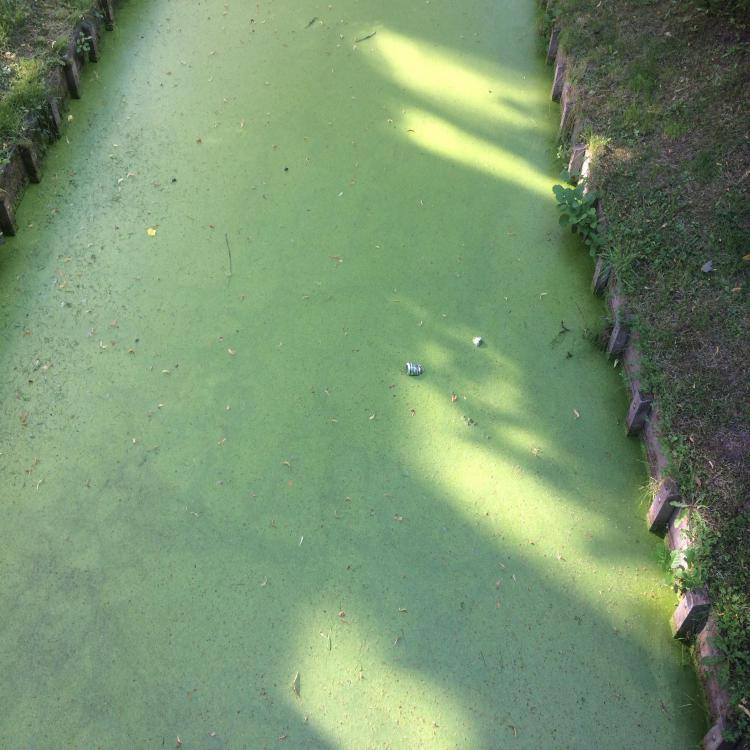Drink can: (405, 362, 424, 376), (472, 336, 484, 347)
